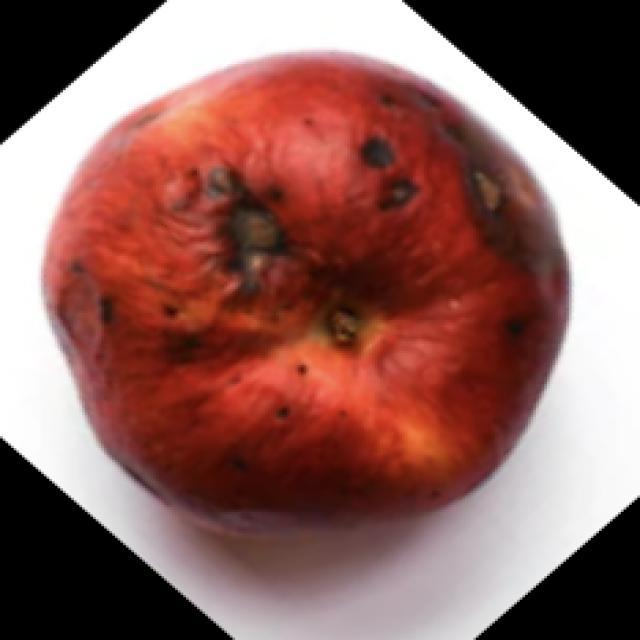Rotten: (50, 41, 562, 542)
